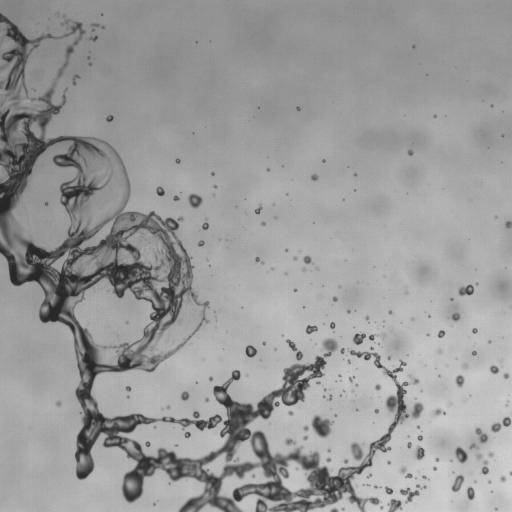droplet: (311, 415, 333, 437), (400, 484, 426, 502), (455, 447, 467, 463), (188, 194, 202, 207), (388, 498, 402, 511), (475, 428, 487, 443), (458, 284, 473, 295), (245, 345, 257, 357), (352, 333, 365, 344), (414, 446, 424, 459), (432, 408, 445, 416), (466, 487, 474, 500), (455, 375, 463, 387), (306, 325, 317, 333), (156, 186, 164, 196), (181, 391, 189, 400), (285, 438, 295, 445), (490, 365, 498, 373), (255, 205, 262, 214), (303, 256, 311, 263), (452, 312, 459, 320), (437, 330, 445, 337), (385, 487, 392, 494), (106, 115, 113, 121), (202, 222, 208, 229), (369, 334, 376, 340), (311, 174, 317, 180), (505, 221, 511, 227), (198, 240, 204, 246), (375, 384, 381, 390), (330, 322, 335, 328), (503, 373, 509, 378), (303, 425, 308, 431), (184, 432, 190, 437), (500, 475, 505, 481), (90, 36, 97, 40), (92, 23, 97, 28), (408, 150, 413, 155), (332, 296, 337, 301), (472, 328, 477, 333), (340, 348, 345, 353), (417, 435, 422, 440), (145, 441, 150, 446), (488, 452, 493, 457), (173, 196, 179, 200), (126, 386, 130, 391), (328, 395, 332, 400), (56, 401, 61, 405), (288, 411, 293, 415), (407, 442, 411, 447), (255, 257, 259, 261), (437, 349, 441, 353), (472, 351, 476, 355), (463, 364, 467, 368), (349, 377, 353, 381), (166, 405, 170, 409), (374, 409, 378, 413), (303, 435, 307, 439), (326, 458, 330, 462), (344, 459, 348, 463), (176, 159, 179, 163), (261, 222, 265, 225), (293, 256, 296, 260), (365, 316, 368, 320), (205, 398, 209, 401), (367, 474, 371, 477), (293, 288, 296, 291), (347, 310, 350, 313), (388, 311, 391, 314), (381, 334, 384, 337), (209, 377, 212, 380), (435, 458, 438, 461), (433, 467, 436, 470), (423, 475, 426, 478), (509, 471, 511, 475), (297, 107, 299, 110), (214, 185, 216, 188), (262, 342, 265, 344), (347, 360, 350, 362), (317, 381, 319, 384), (327, 449, 330, 451), (387, 461, 390, 463), (65, 21, 67, 23), (45, 202, 47, 204), (388, 357, 390, 359), (374, 486, 376, 488), (380, 506, 382, 508)
ligament: (0, 13, 423, 511), (56, 21, 84, 78), (491, 417, 511, 432), (476, 454, 488, 474), (451, 475, 464, 492), (400, 467, 412, 478), (409, 375, 419, 384), (72, 75, 78, 84), (469, 444, 477, 448), (330, 508, 338, 511)
